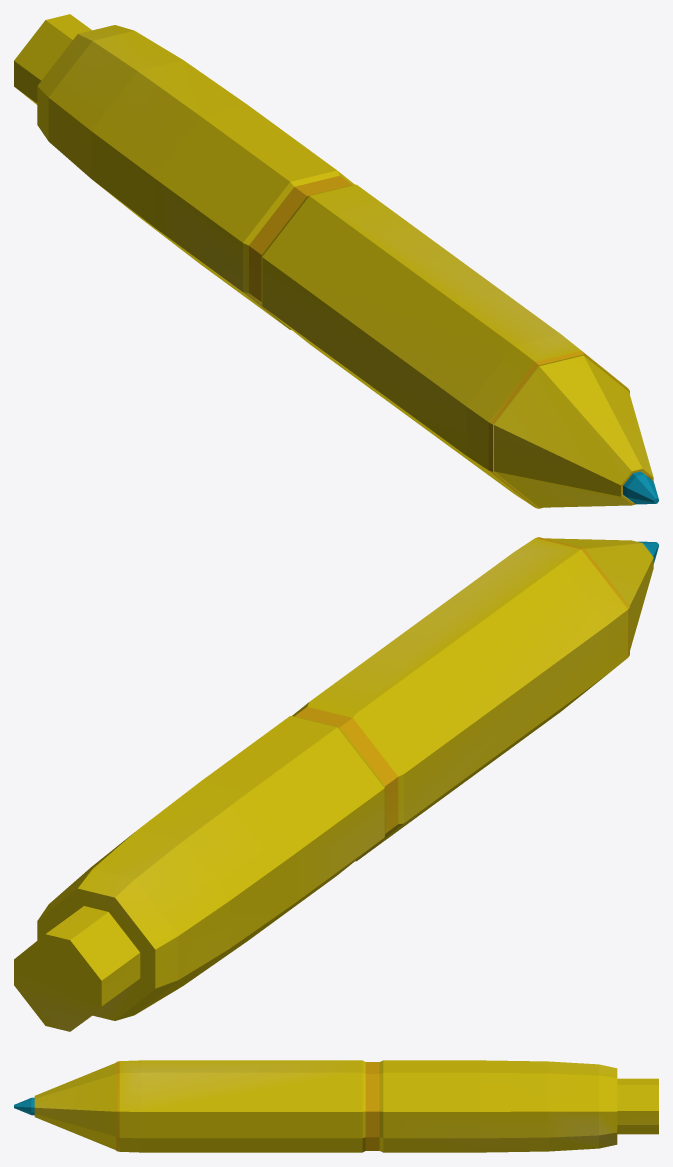
The model's file is 4ColorsPen.fbx.
The picture shows the model from 3 angles, top to bottom: view 1: azimuth 30°, elevation 25°; view 2: azimuth 150°, elevation 25°; view 3: azimuth 270°, elevation 25°; orthographic projection. The views are drawn at different scales.
Parts seen in each view (by area): view 1: Base; view 2: Base; view 3: Base.
Boxes of the visible parts, x1=… form: Base: x1=14, y1=14, x2=658, y2=508; Base: x1=14, y1=537, x2=658, y2=1031; Base: x1=14, y1=1060, x2=658, y2=1152.
Bounding box in the file's own units: 0.8 × 0.8 × 5.86.
